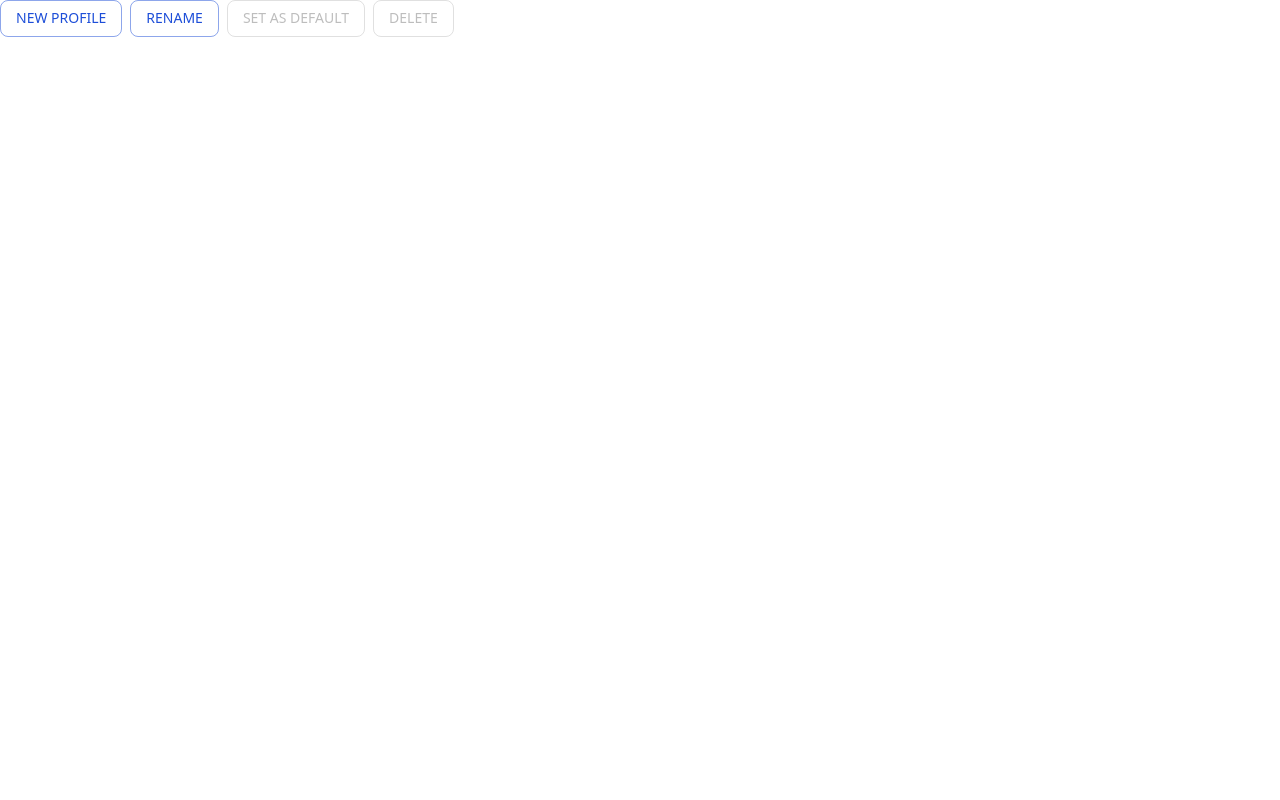
ProfileManager, new › creates a profile from the selected one and opens it
Click the button "New profile".
click(61, 18)  # box [0,0,122,36]
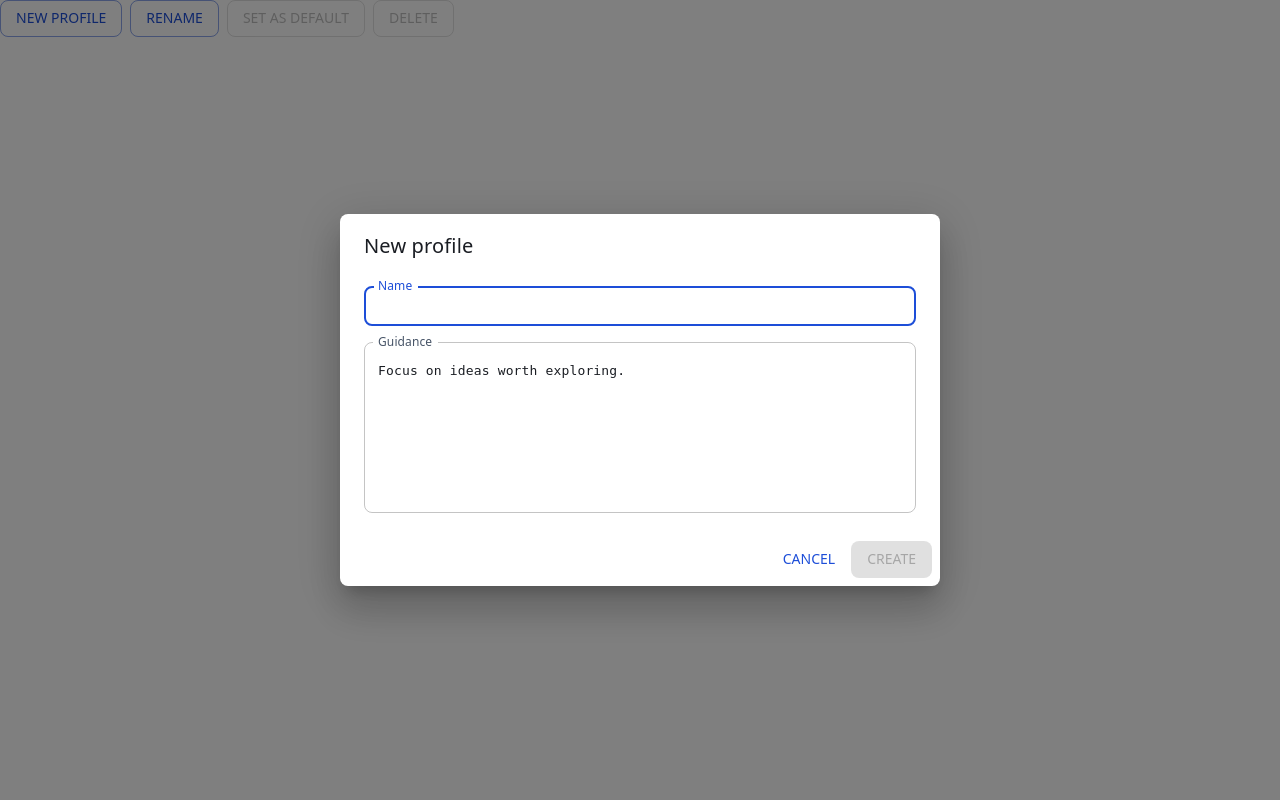
Check: the text box labelled "Guidance" holds "Focus on ideas worth exploring.", box [378,359,902,497]
Type "Research" into the field labelled "Name".
click(640, 306); type("Research")  # box [364,286,916,326]
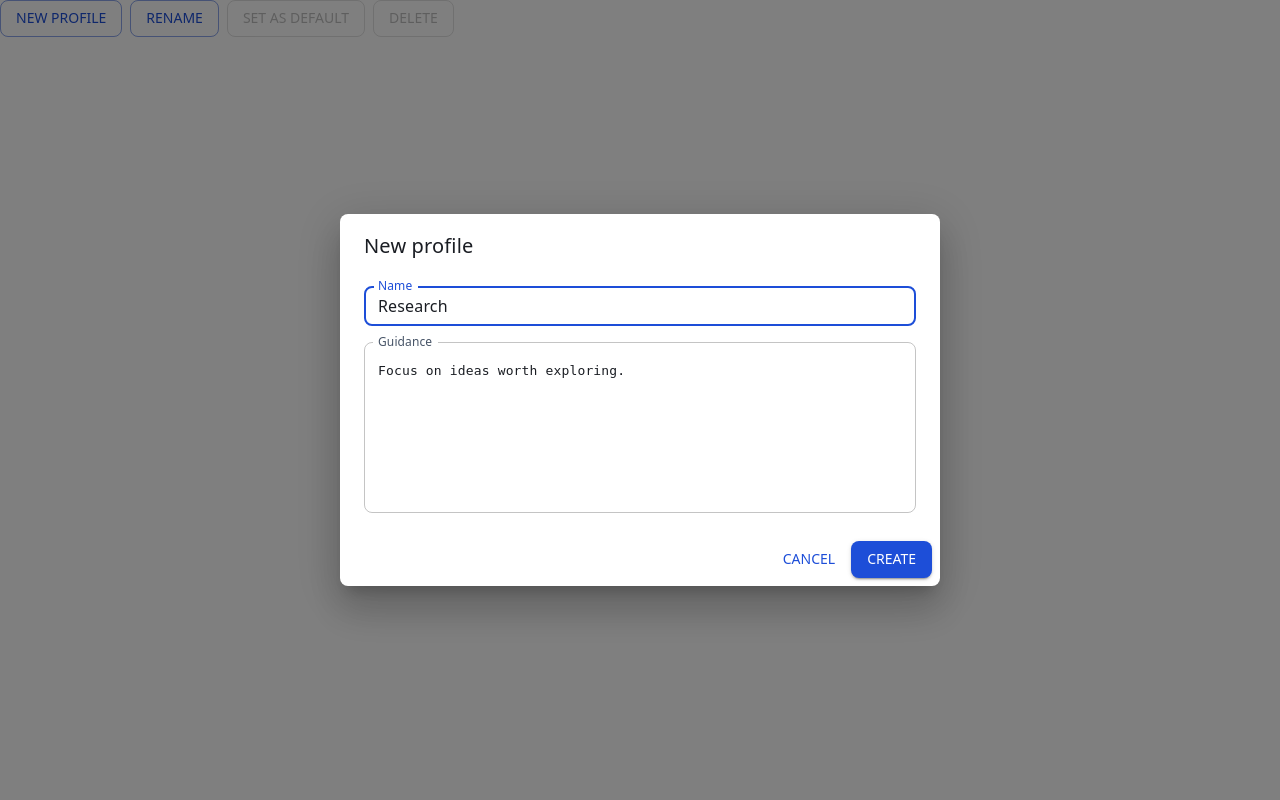
Click the button "Create".
click(892, 560)  # box [851,541,932,578]
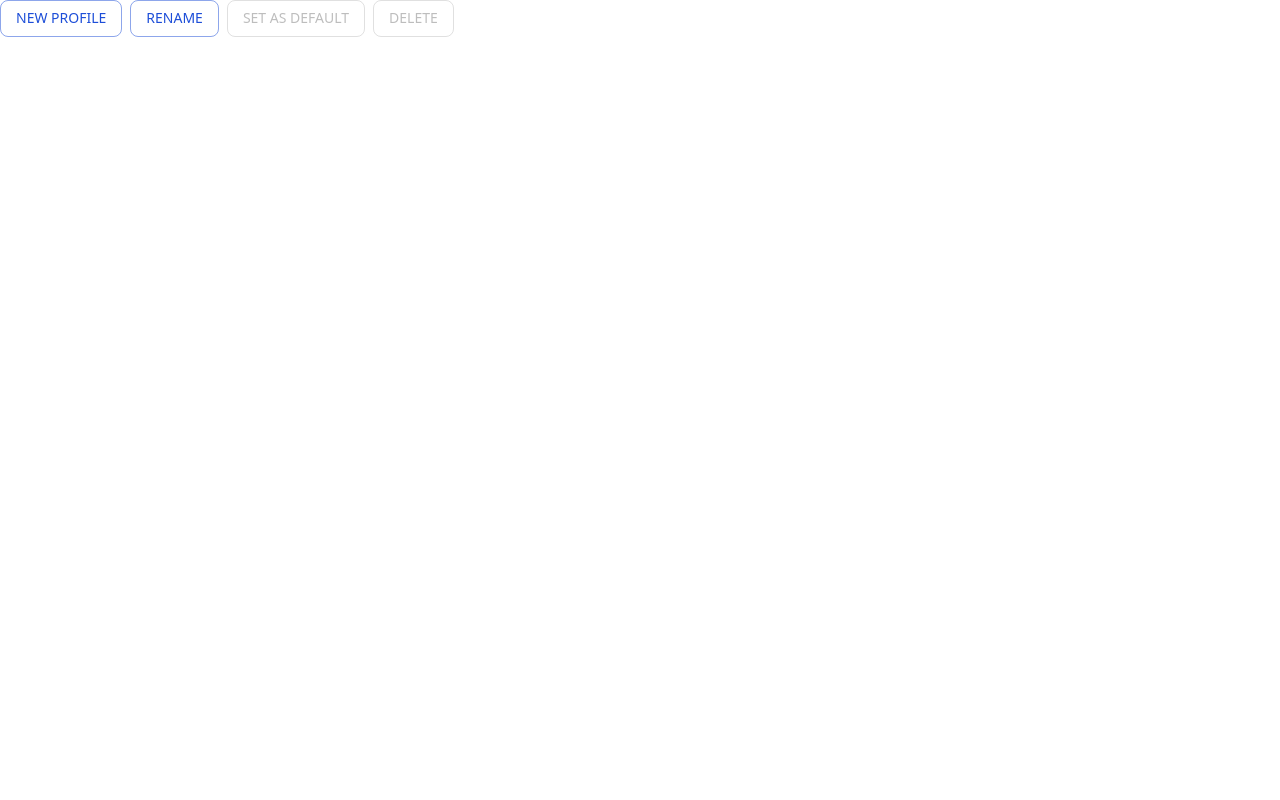
Check: the dialog is gone
